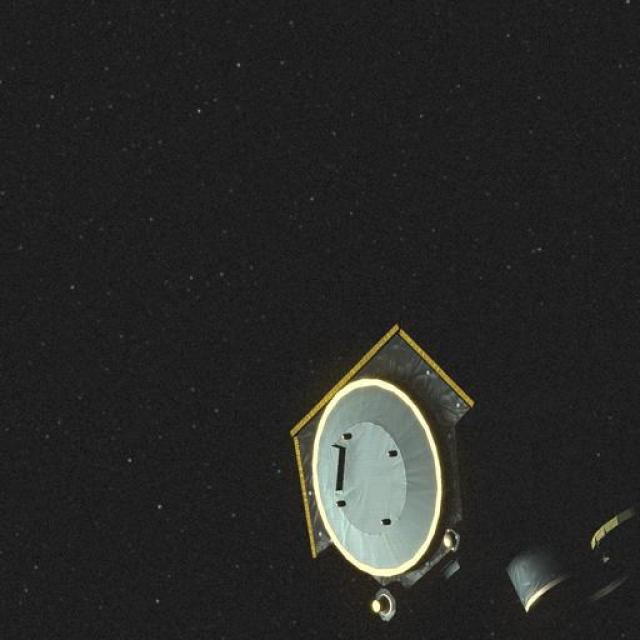cheops: (279, 330, 640, 628)
